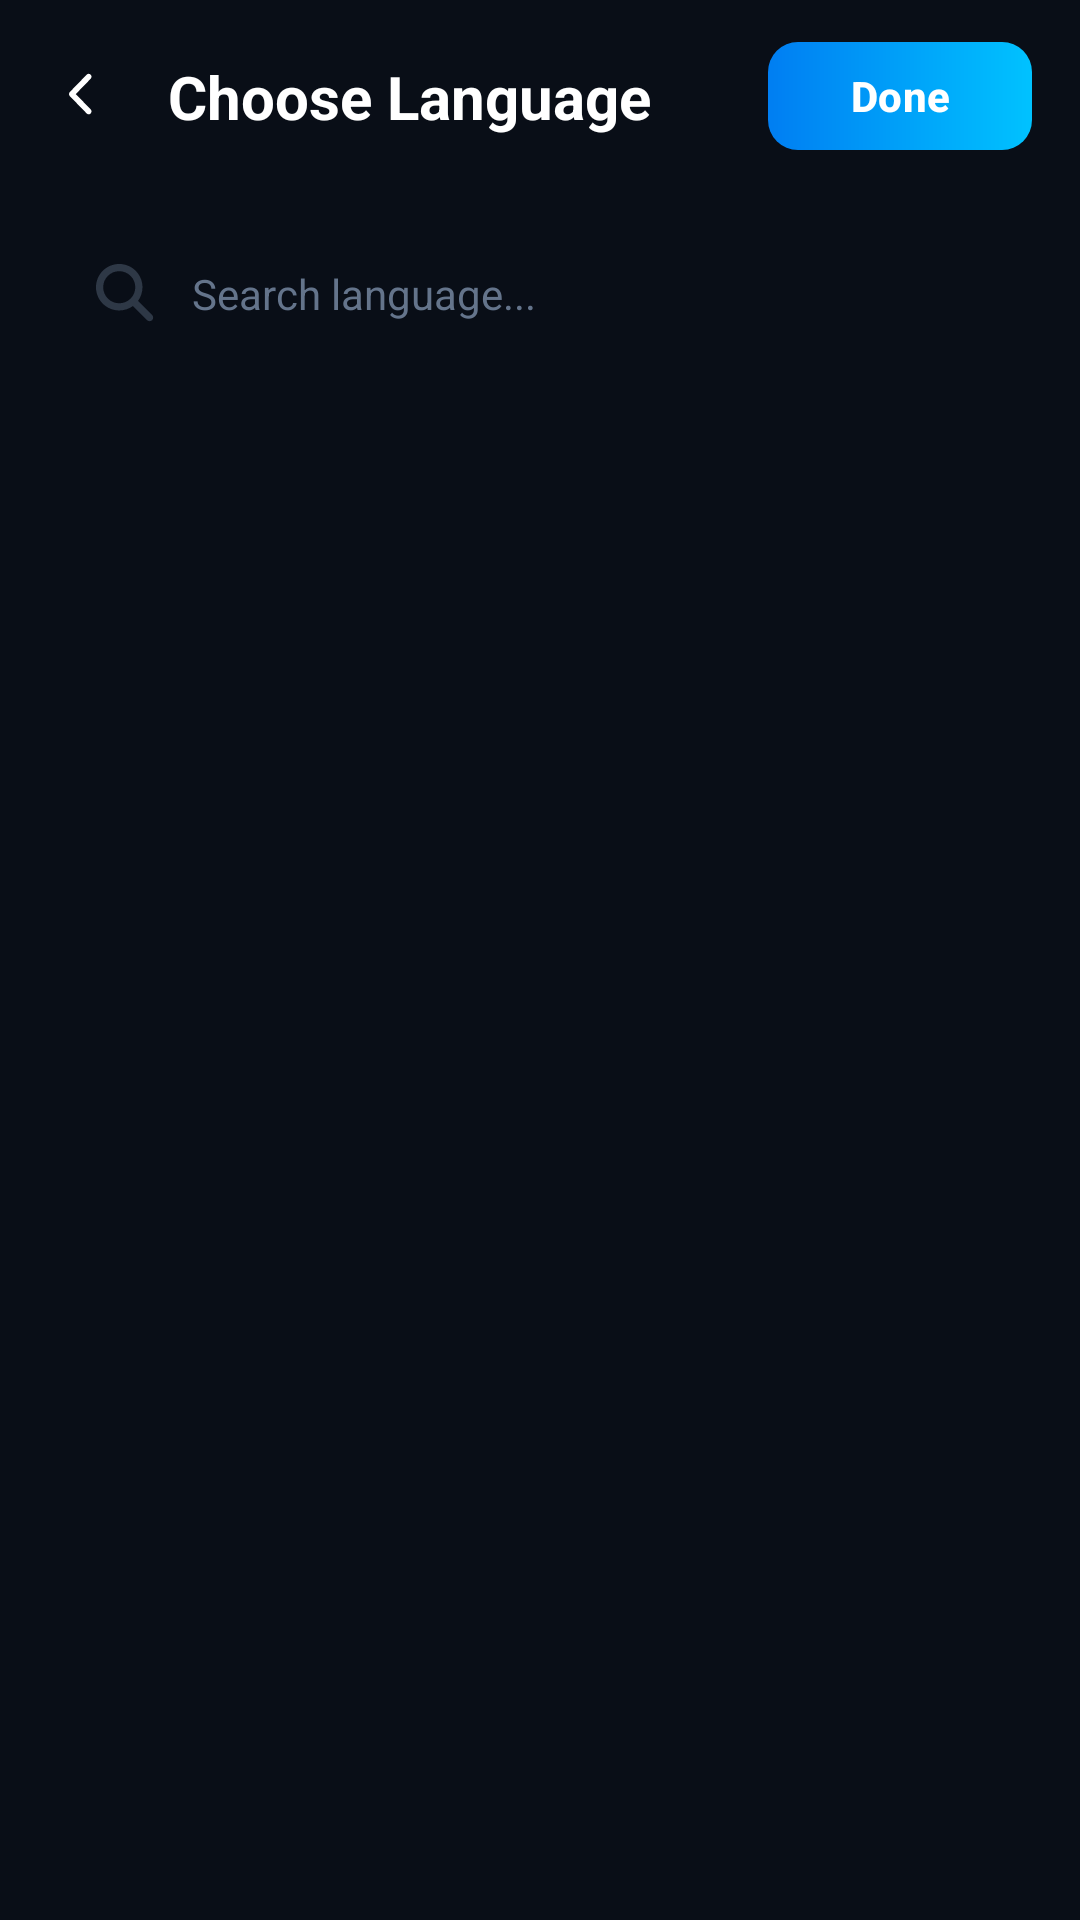

Icons on this 1080 × 1920 Android screen, each with the point to tap as (x=x, y=y):
Go Back: (x=80, y=94)
